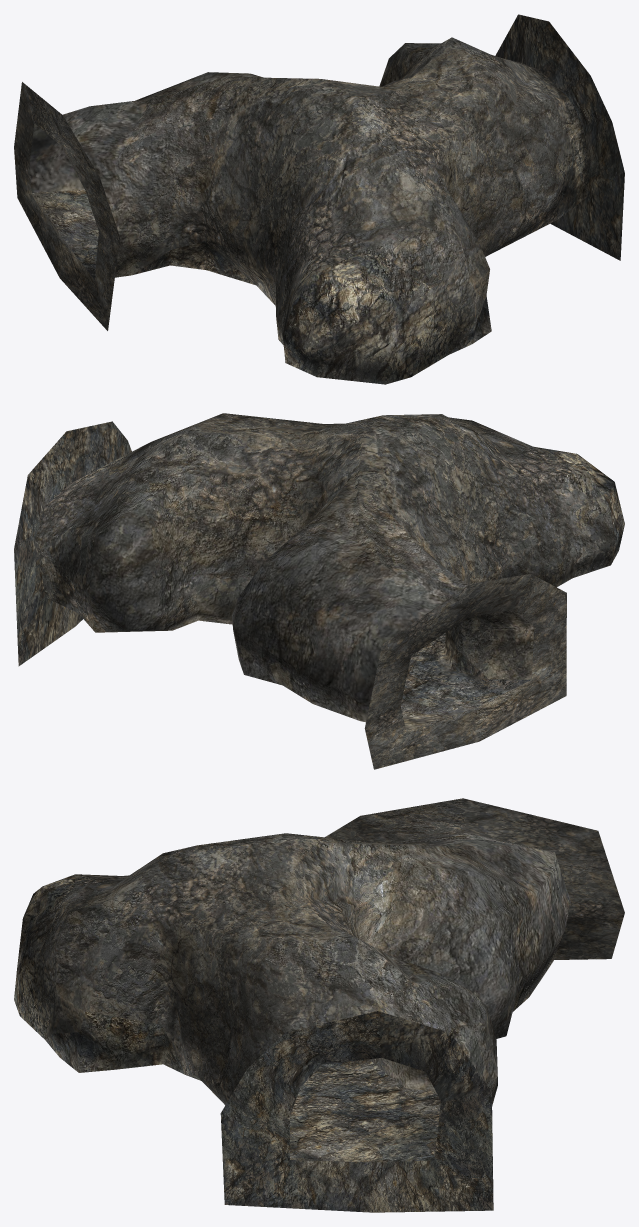
Rendered from Cave31.fbx.
3 views of the same model, one above another, from view 1: azimuth 30°, elevation 25°; view 2: azimuth 150°, elevation 25°; view 3: azimuth 270°, elevation 25° (orthographic). The views are drawn at different scales.
Parts seen in each view (by area): view 1: Cave31; view 2: Cave31; view 3: Cave31.
Boxes of the visible parts, x1,y1,x2,y2 form: Cave31: [14, 14, 624, 384]; Cave31: [14, 413, 624, 769]; Cave31: [14, 798, 624, 1212].
Size of the model in its own units: 257 by 118 by 273.
